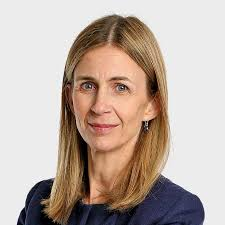person: (59, 14, 169, 162)
